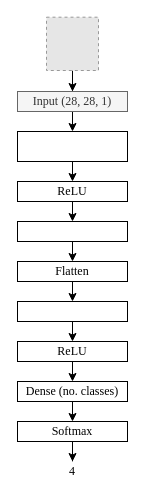
The diagram is 145 pixels wide and 499 high, and some of its shapes have lost their labels. Grey dashed boxes stand in for pictures. Here are the shapes that lost their labels. From the top down, the centre of each, then its label:
the point at 72,146: Conv2D (16 filters, 3×3, stride 1)
the point at 72,231: MaxPooling2D
the point at 72,311: Dense (16)
